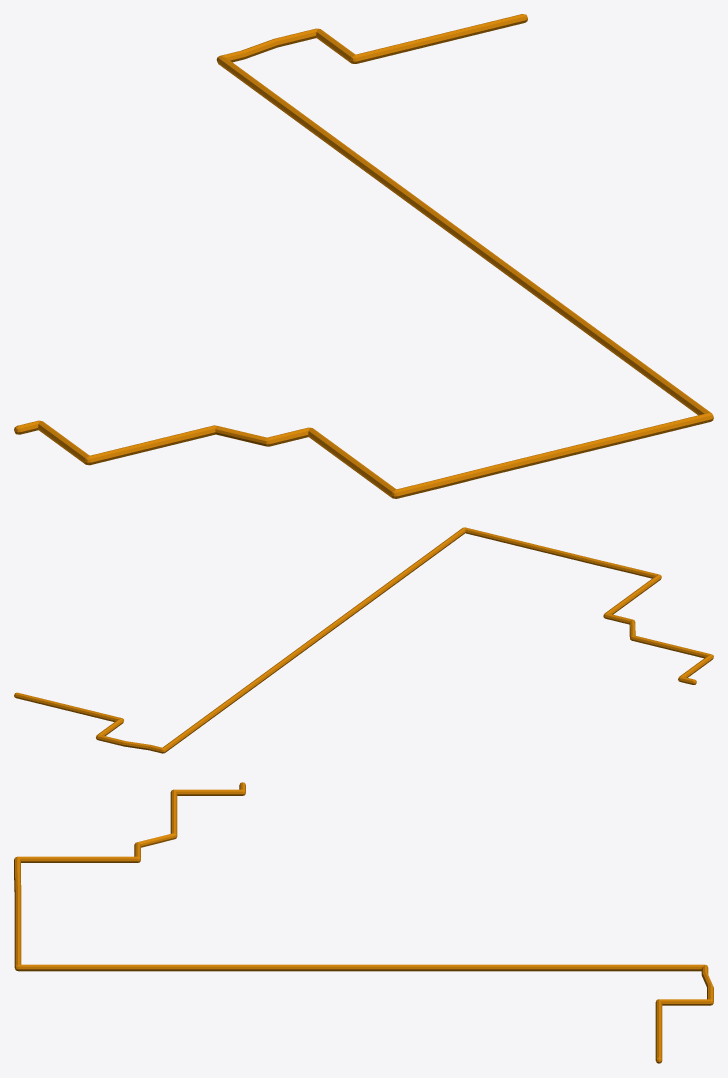
The picture shows the model from 3 angles, top to bottom: view 1: azimuth 30°, elevation 25°; view 2: azimuth 150°, elevation 25°; view 3: azimuth 270°, elevation 25°; orthographic projection. The views are drawn at different scales.
Size of the model in its own units: 1914 by 20 by 2038.
